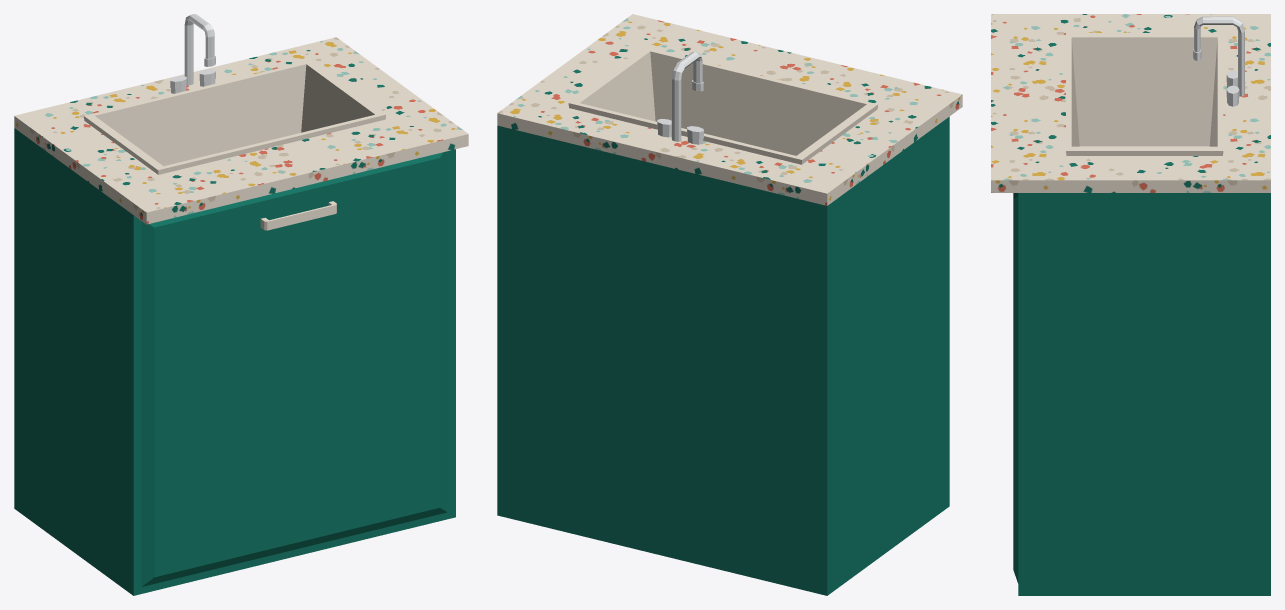
The model's file is sink_a.glb.
3 views of the same model, side by side, from view 1: azimuth 30°, elevation 25°; view 2: azimuth 150°, elevation 25°; view 3: azimuth 270°, elevation 25° (orthographic). The views are drawn at different scales.
Visible parts, largest first — view 1: Kitchen_Sink; view 2: Kitchen_Sink; view 3: Kitchen_Sink.
Boxes of the visible parts, <box> form: Kitchen_Sink: <box>14,14,468,595</box>; Kitchen_Sink: <box>497,14,962,595</box>; Kitchen_Sink: <box>991,14,1270,595</box>.
Bounding box in the file's own units: 0.9 × 1.25 × 0.64.
4 materials, 1 textured.
